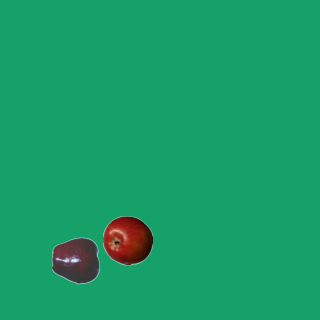Apple Braeburn: (102, 215, 152, 265)
Apple Red Delicious: (51, 235, 101, 285)
